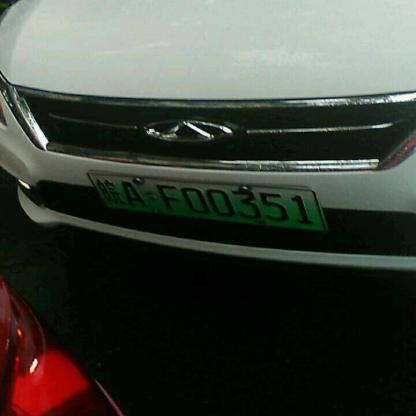lp: (88, 170, 326, 227)
